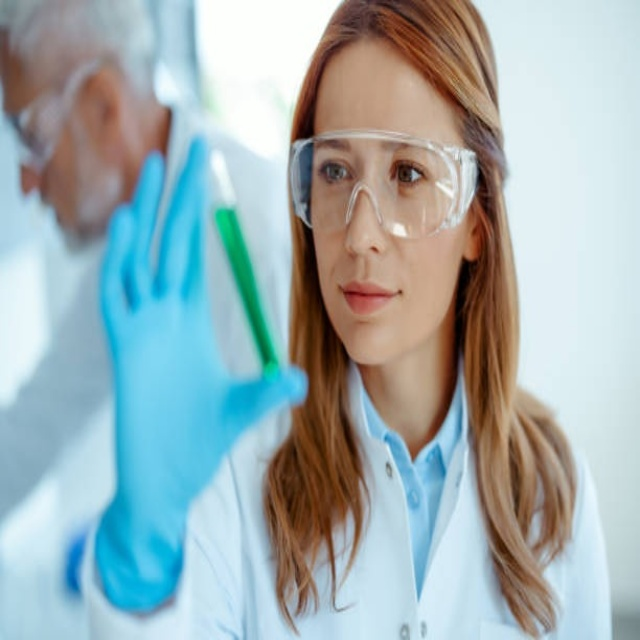Gafas: (290, 131, 479, 241), (6, 55, 108, 173)
Guantes: (90, 142, 310, 607)
Sin_mascara: (333, 270, 405, 351)
